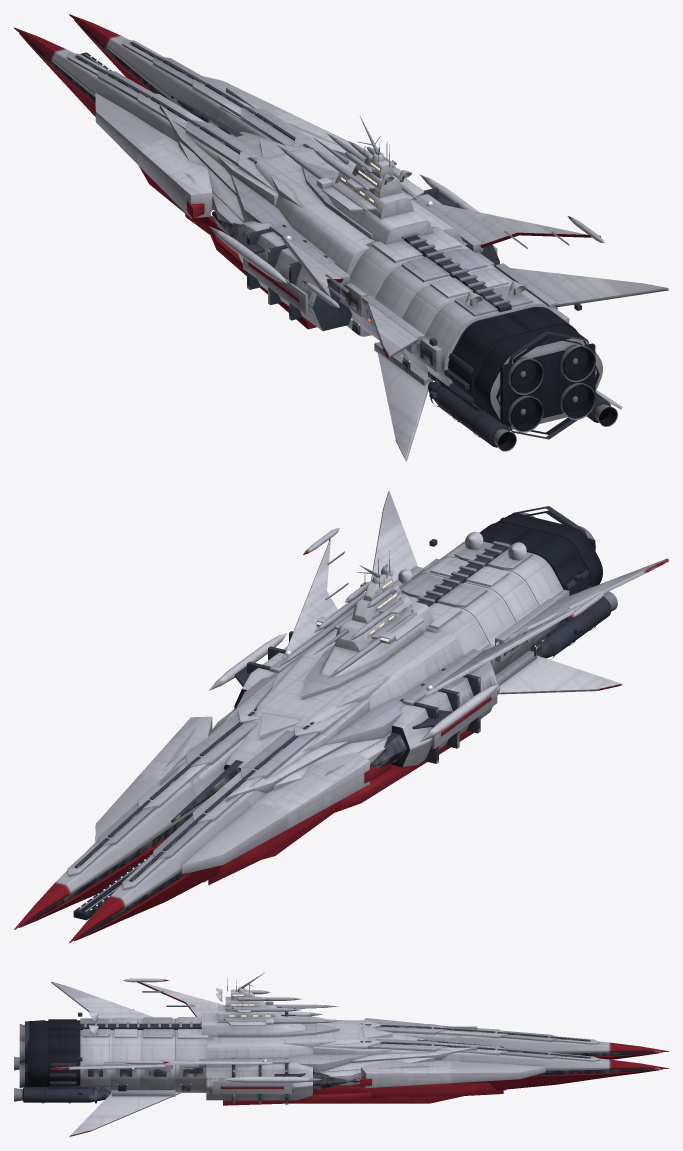
Rendered from ship-arcadia.glb.
3 views of the same model, one above another, from view 1: azimuth 30°, elevation 25°; view 2: azimuth 150°, elevation 25°; view 3: azimuth 270°, elevation 25° (orthographic). The views are drawn at different scales.
Visible parts, largest first — view 1: Hull, Wings, Engine, Tower; view 2: Hull, Wings, Tower, Engine; view 3: Hull, Wings, Tower, Engine.
Boxes of the visible parts, bbox=[...] form: Hull: bbox=[14, 14, 602, 429]; Wings: bbox=[95, 76, 668, 461]; Engine: bbox=[428, 331, 617, 451]; Tower: bbox=[277, 116, 433, 244]; Hull: bbox=[14, 513, 602, 943]; Wings: bbox=[95, 491, 668, 885]; Tower: bbox=[277, 550, 433, 679]; Engine: bbox=[500, 506, 617, 659]; Hull: bbox=[28, 1009, 668, 1105]; Wings: bbox=[51, 978, 545, 1136]; Tower: bbox=[202, 972, 338, 1036]; Engine: bbox=[14, 1021, 111, 1103].
Size of the model in its own units: 0.3228 by 0.2277 by 1.03.
5 materials, 1 textured.
